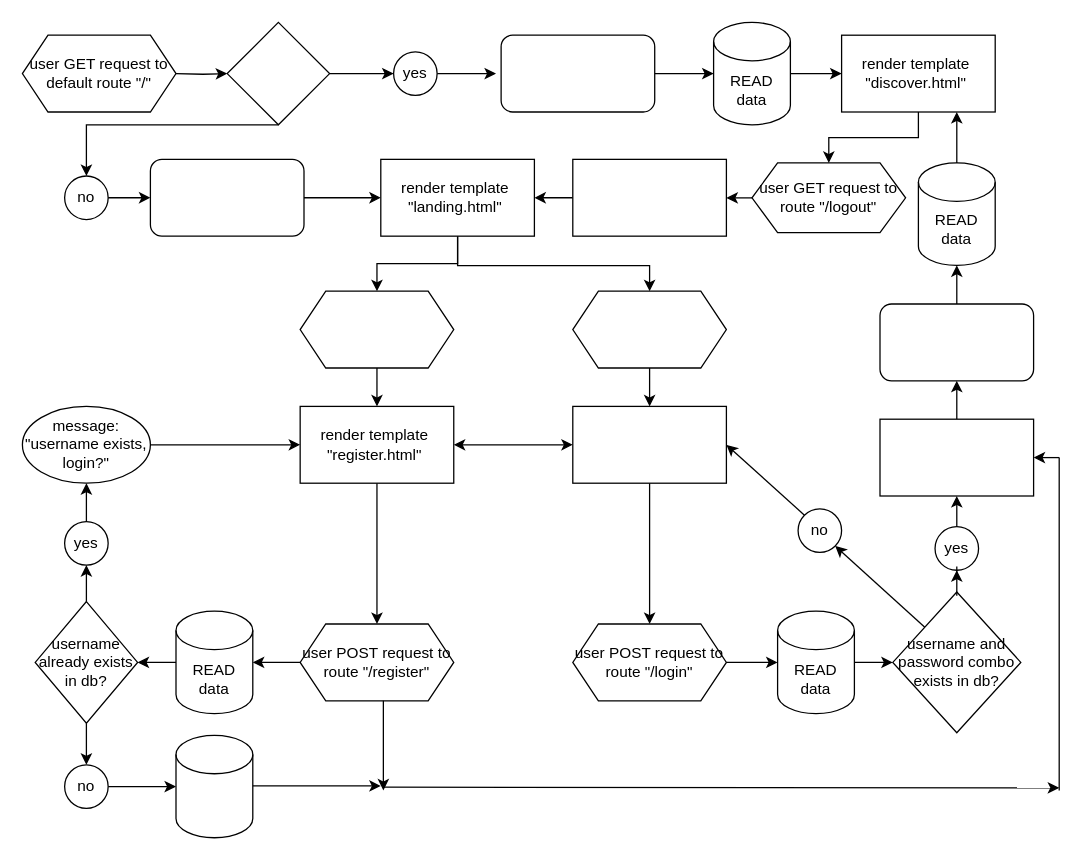
The diagram is 1092 pixels wide and 860 high, and some of its shapes have lost their labels. Each missing label, with the centre of its shape:
add user to session data in browser cookies: (x=956, y=457)
redirect GET request to route "/discover": (x=577, y=73)
redirect GET request to route "/landing.html": (x=226, y=197)
redirect request to route "/discover": (x=956, y=342)
remove session data in browser cookies: (x=649, y=197)
render template "login.html": (x=649, y=444)
user GET request to route "/login": (x=649, y=329)
user GET request to route "/register": (x=376, y=329)
user logged in?: (x=278, y=73)
WRITE data: (x=214, y=786)
